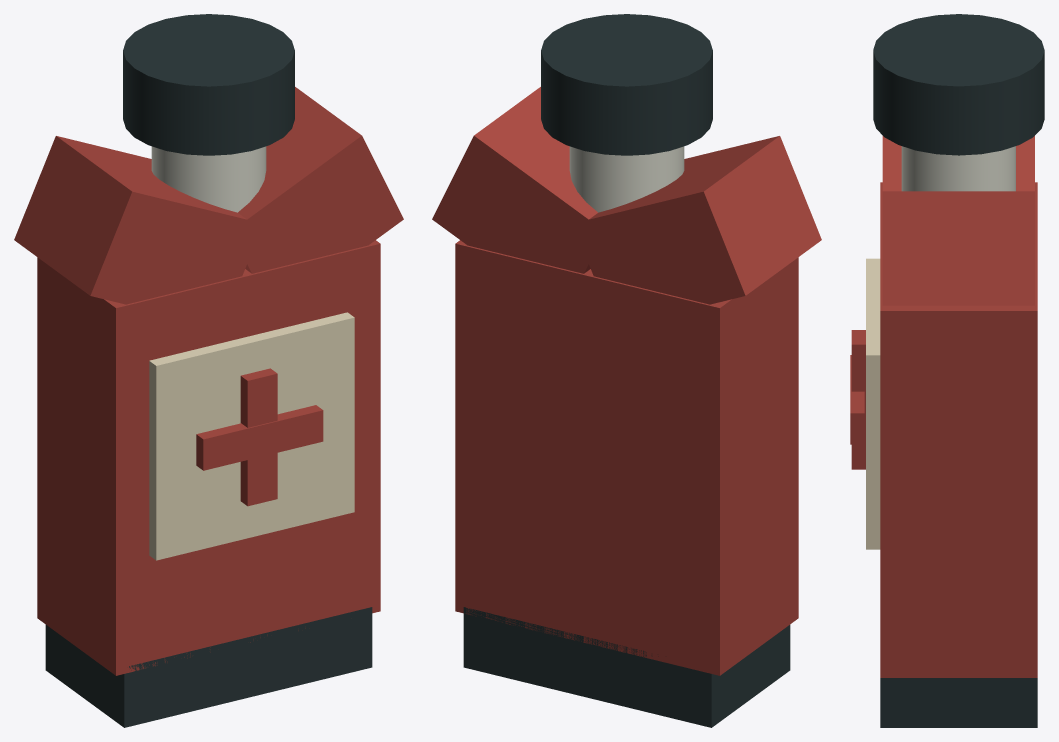
File: FSA_ITEM_Consumable_005_BloodBottle.glb
3 renders of one model, left to right at view 1: azimuth 30°, elevation 25°; view 2: azimuth 150°, elevation 25°; view 3: azimuth 270°, elevation 25°, orthographic.
Parts seen in each view (by area): view 1: BloodReservoir, LabelPanel, ShoulderL, Stopper, BottleBase, ShoulderR, Neck, MedicalHorizontal, MedicalVertical; view 2: BloodReservoir, ShoulderL, Stopper, BottleBase, ShoulderR, Neck; view 3: BloodReservoir, Stopper, ShoulderR, BottleBase, Neck, LabelPanel, ShoulderL, MedicalVertical, MedicalHorizontal.
Part boxes in pixels (x1,y1,x2,y2): BloodReservoir: (37, 240, 380, 675); LabelPanel: (149, 312, 354, 560); ShoulderL: (14, 136, 262, 304); Stopper: (123, 14, 294, 155); BottleBase: (45, 607, 372, 727); ShoulderR: (231, 87, 403, 273); Neck: (151, 146, 266, 212); MedicalHorizontal: (196, 405, 323, 470); MedicalVertical: (240, 368, 277, 506); BloodReservoir: (455, 240, 798, 675); ShoulderL: (573, 136, 821, 304); Stopper: (541, 14, 712, 155); BottleBase: (463, 607, 790, 727); ShoulderR: (432, 87, 604, 273); Neck: (569, 146, 684, 212); BloodReservoir: (880, 182, 1037, 677); Stopper: (873, 14, 1044, 155); ShoulderR: (882, 191, 1034, 305); BottleBase: (880, 678, 1037, 727); Neck: (901, 146, 1015, 191); LabelPanel: (866, 258, 880, 549); ShoulderL: (882, 136, 1034, 191); MedicalVertical: (851, 330, 865, 469); MedicalHorizontal: (850, 355, 864, 444).
Bounding box in the file's own units: 0.0759 × 0.143 × 0.0408.
